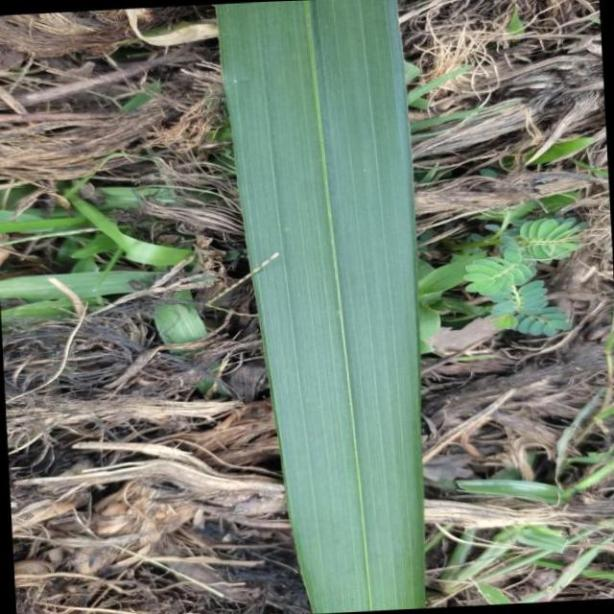Healthy: (216, 0, 427, 614)
